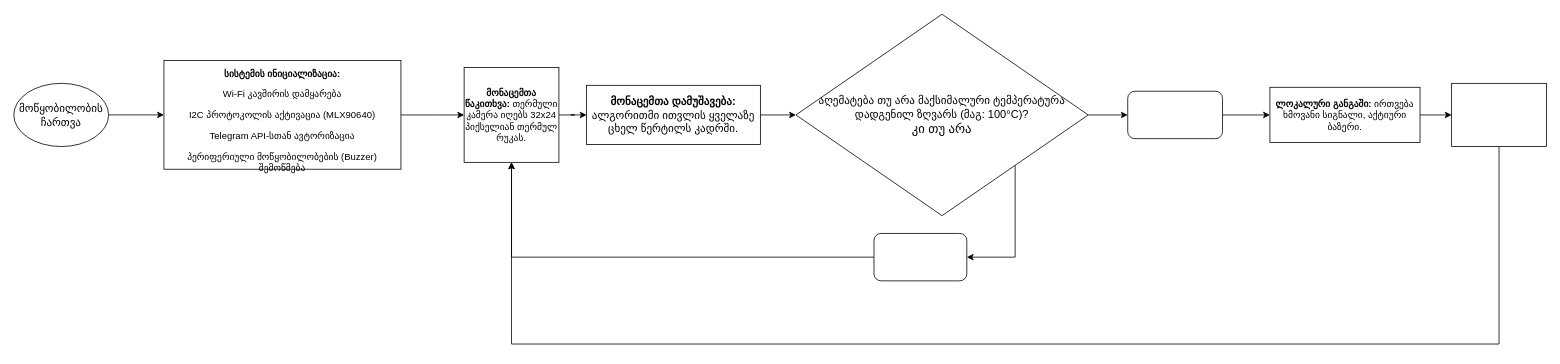
Some shapes in this 1560 by 364 pixel diagram are drawn without their labels. Here are the shapes that lost their labels. From the top down, the centre of each, then its label:
the point at 1175,114: კი
the point at 1498,115: დისტანციური შეტყობინება: სისტემა აგზავნის შეტყობინებას Telegram-ში.
the point at 920,257: არა
